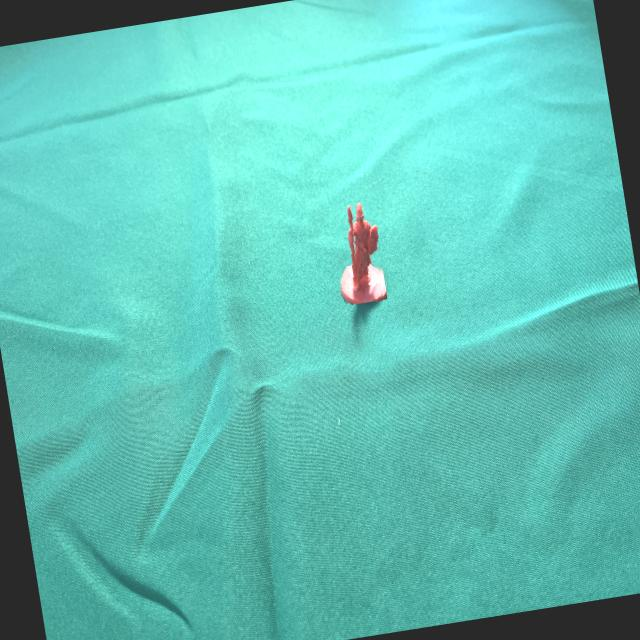amon_follower: (341, 203, 383, 304)
